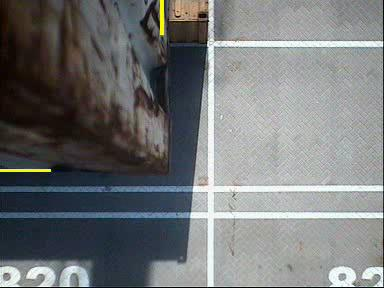groundmarker_2: (193, 29, 249, 119)
